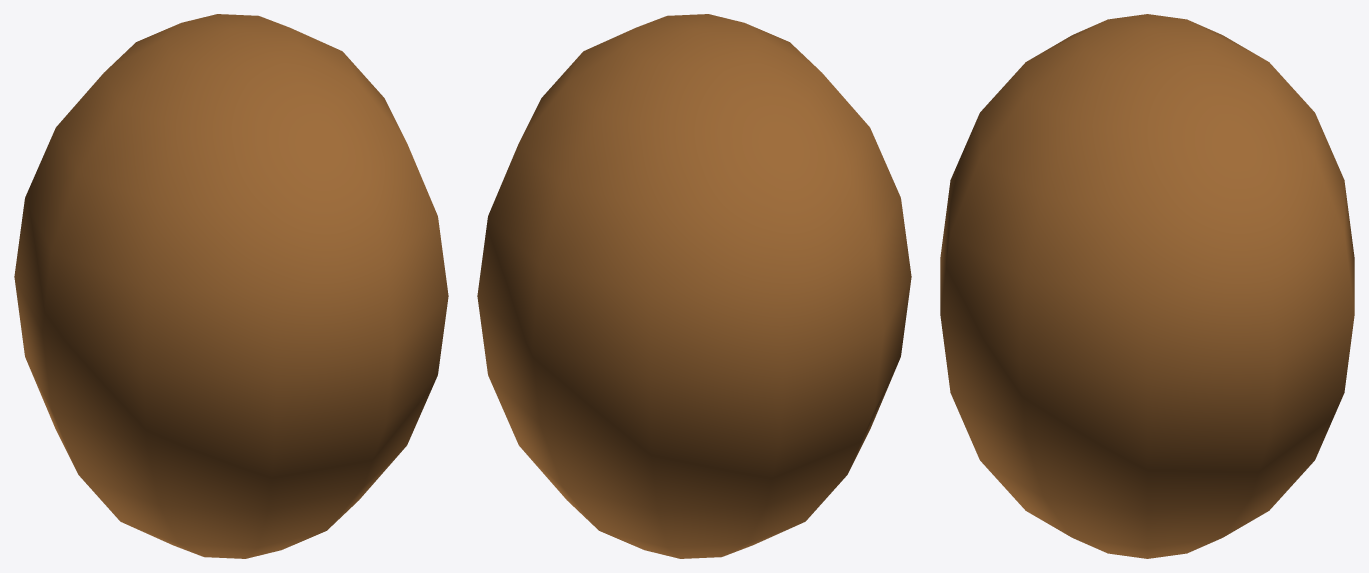
The model's file is dunecub_stage2.obj.
3 views of the same model, side by side, from view 1: azimuth 30°, elevation 25°; view 2: azimuth 150°, elevation 25°; view 3: azimuth 270°, elevation 25° (orthographic).
Bounding box in the file's own units: 2 × 2.6 × 1.9.
